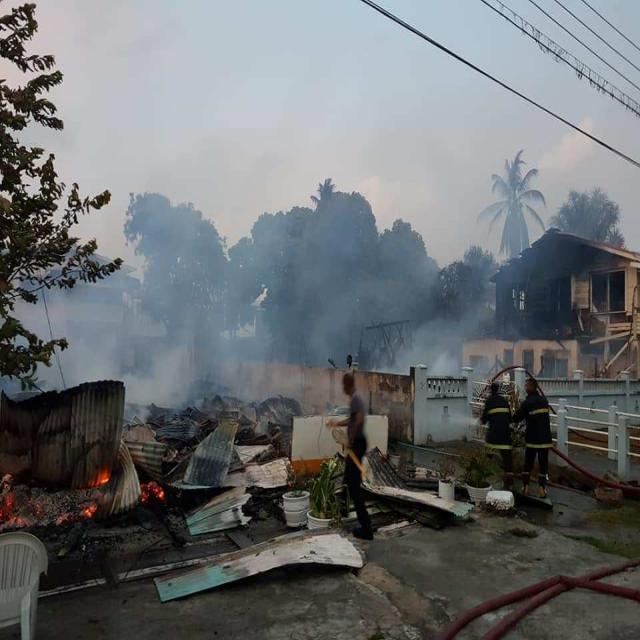Smoke: (64, 284, 274, 392), (308, 244, 476, 370)
